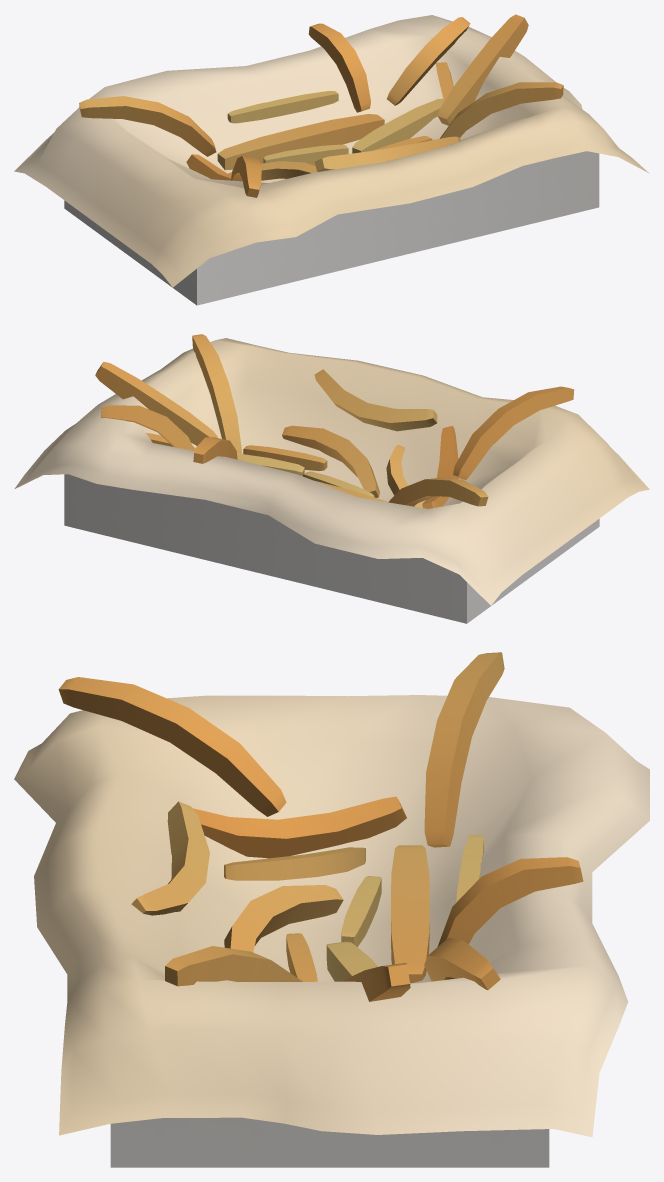
The model's file is ENV_Chips_Half.fbx.
3 views of the same model, one above another, from view 1: azimuth 30°, elevation 25°; view 2: azimuth 150°, elevation 25°; view 3: azimuth 270°, elevation 25° (orthographic). The views are drawn at different scales.
Visible parts, largest first — view 1: ENV_Chips_Half; view 2: ENV_Chips_Half; view 3: ENV_Chips_Half.
Boxes of the visible parts, x1,y1,x2,y2 form: ENV_Chips_Half: (14, 14, 649, 305); ENV_Chips_Half: (14, 334, 649, 623); ENV_Chips_Half: (14, 652, 649, 1167).
Size of the model in its own units: 33.21 by 8.15 by 22.57.
